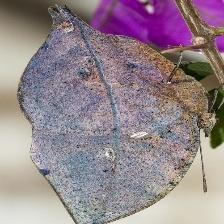butterfly: (16, 5, 217, 224)
